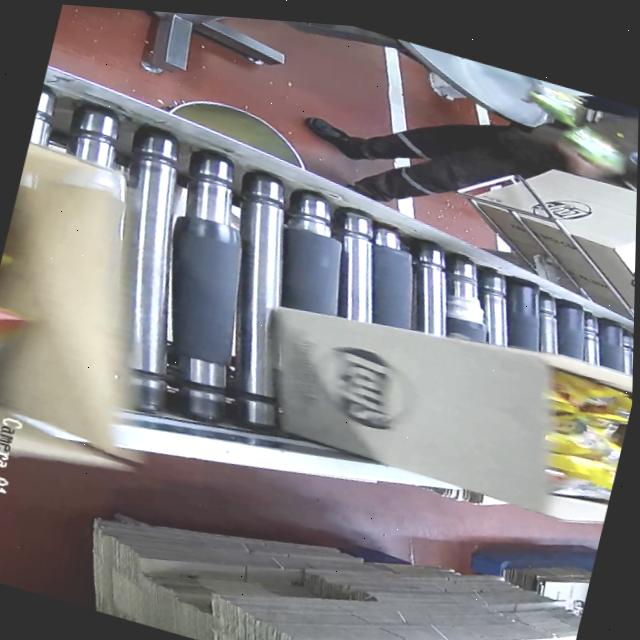SALTED: (534, 364, 633, 496)
